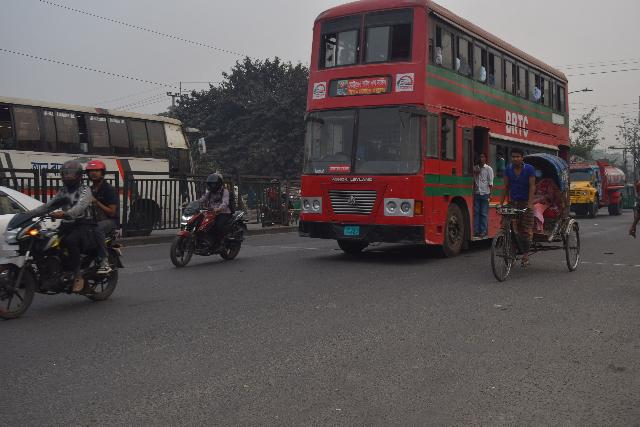bus: (287, 7, 573, 262), (0, 84, 211, 243)
motorcycle: (0, 204, 133, 327), (170, 172, 255, 270)
truck: (570, 133, 626, 227)
